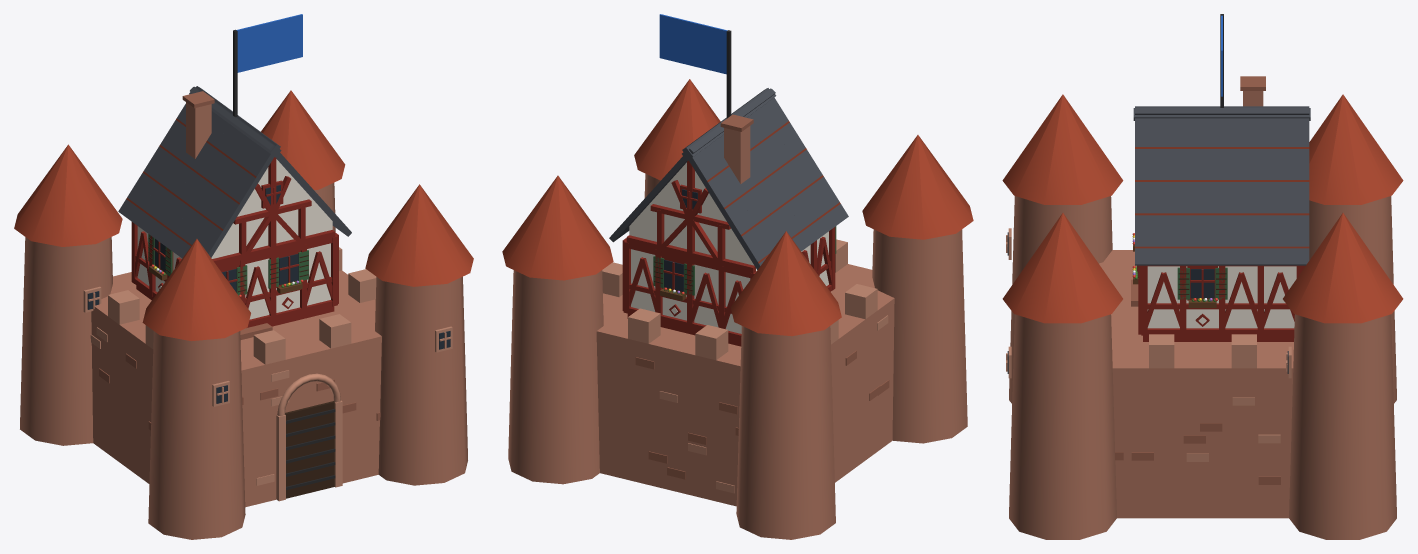
File: burg.glb
The picture shows the model from 3 angles, left to right: view 1: azimuth 30°, elevation 25°; view 2: azimuth 150°, elevation 25°; view 3: azimuth 270°, elevation 25°; orthographic projection. The views are drawn at different scales.
Bounding box in the file's own units: 6.21 × 7.7 × 6.3.
